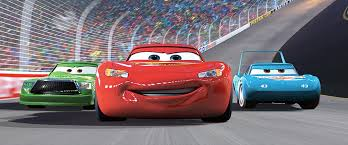mcqueen: (93, 41, 234, 123)
